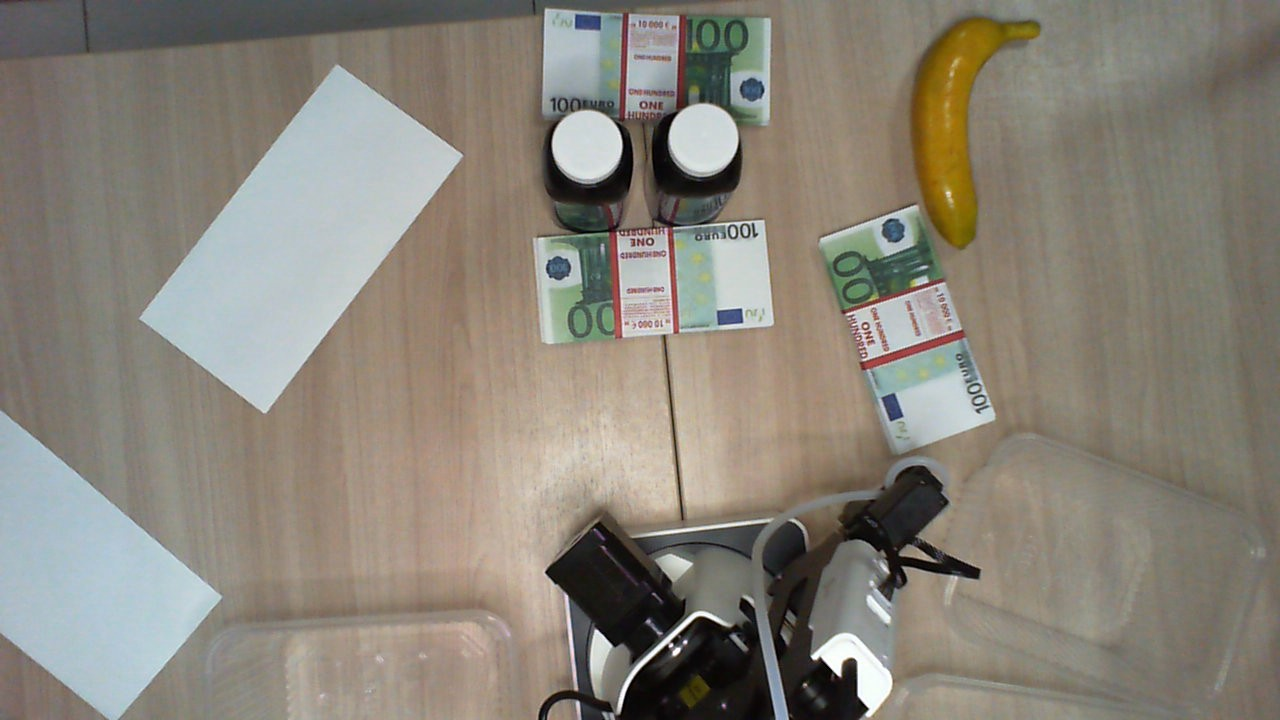banana: (914, 9, 1043, 250)
bottle: (543, 108, 634, 200), (657, 104, 743, 195)
convert: (138, 60, 461, 413), (1, 405, 222, 718)
money: (818, 204, 997, 454), (533, 220, 776, 347), (541, 8, 772, 125)
